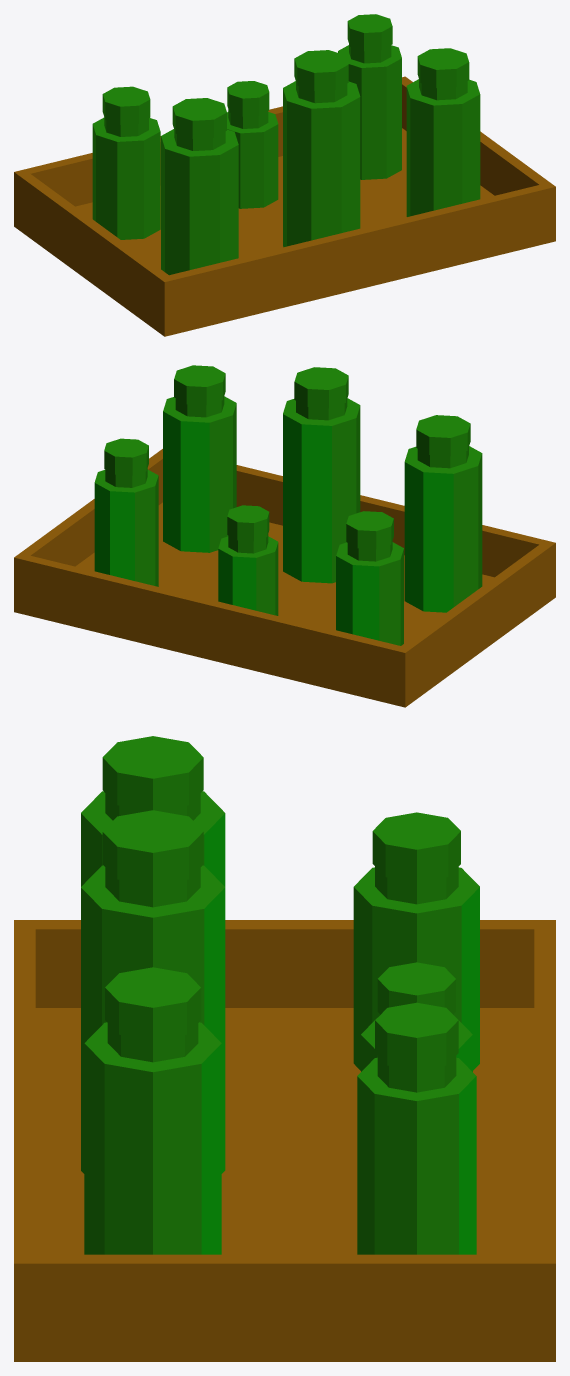
File: SM_LSP_SampleTray.fbx
The picture shows the model from 3 angles, top to bottom: view 1: azimuth 30°, elevation 25°; view 2: azimuth 150°, elevation 25°; view 3: azimuth 270°, elevation 25°; orthographic projection. The views are drawn at different scales.
Parts seen in each view (by area): view 1: SM_LSP_SampleTray; view 2: SM_LSP_SampleTray; view 3: SM_LSP_SampleTray.
Part boxes in pixels (box(x1,y1,x2,y2)): SM_LSP_SampleTray: box(14, 14, 555, 336); SM_LSP_SampleTray: box(14, 365, 555, 707); SM_LSP_SampleTray: box(14, 736, 555, 1361).
Size of what is drawn, in the model's own units: 45 by 30 by 21.9.
